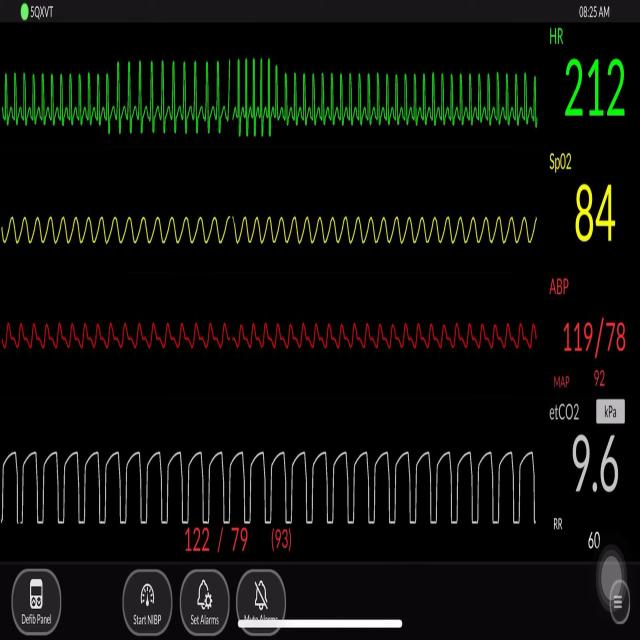danger: (282, 58, 546, 140), (117, 36, 280, 155), (5, 54, 110, 141)
